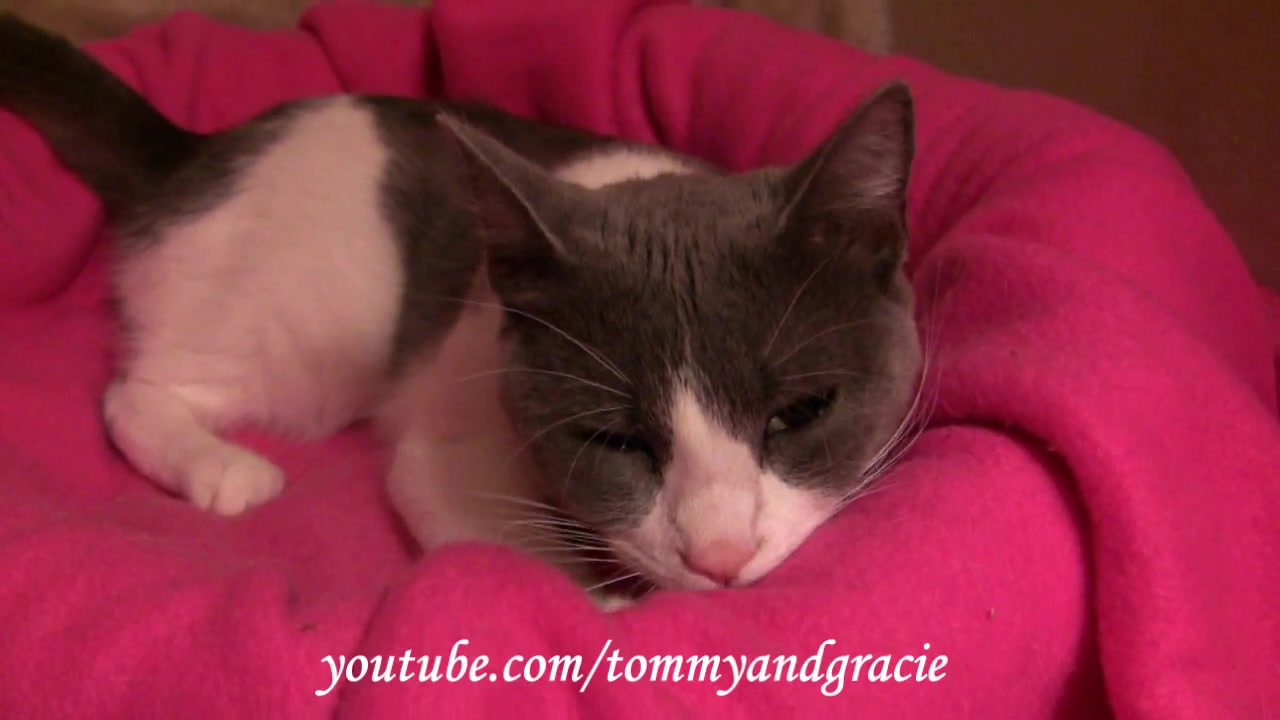cat: (1, 7, 944, 614)
